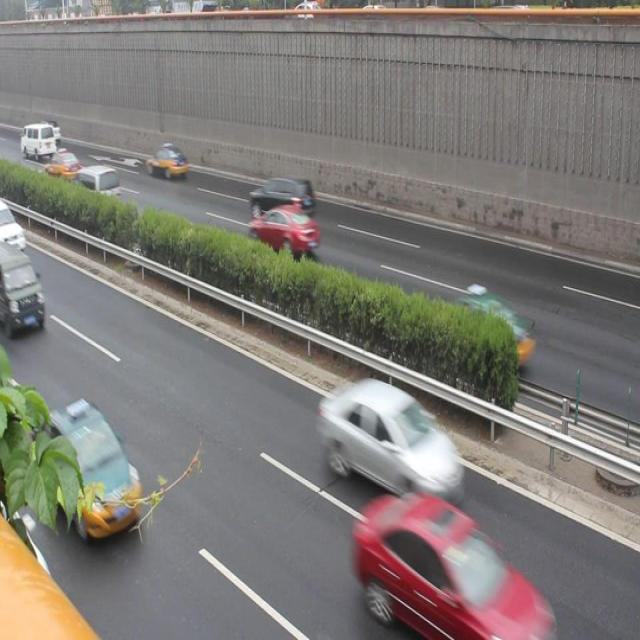car: (352, 487, 551, 640), (313, 370, 467, 507), (31, 396, 144, 534), (440, 278, 539, 369), (246, 200, 320, 265), (245, 176, 313, 223), (144, 142, 188, 180)
truck: (1, 244, 46, 334), (77, 167, 124, 213)
